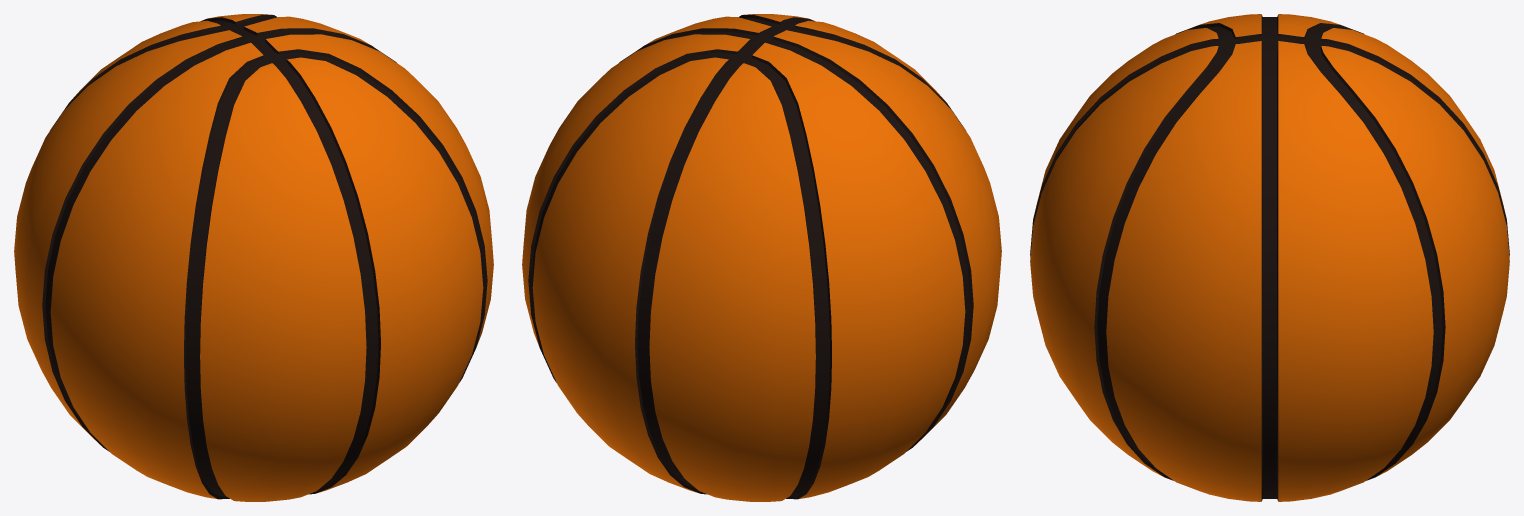
Rendered from basketball.fbx.
The picture shows the model from 3 angles, left to right: view 1: azimuth 30°, elevation 25°; view 2: azimuth 150°, elevation 25°; view 3: azimuth 270°, elevation 25°; orthographic projection.
Parts seen in each view (by area): view 1: basket_ball; view 2: basket_ball; view 3: basket_ball.
Part boxes in pixels (x1,y1,x2,y2): basket_ball: (14,14,493,501); basket_ball: (522,14,1001,501); basket_ball: (1030,14,1509,501).
Bounding box in the file's own units: 21.26 × 21.55 × 21.26.
